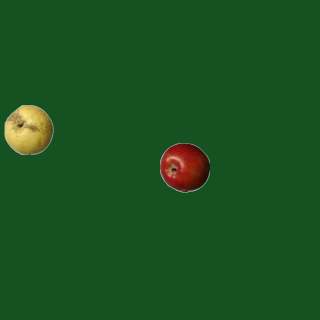Apple Braeburn: (159, 142, 209, 192)
Apple Golden 1: (3, 104, 53, 154)
